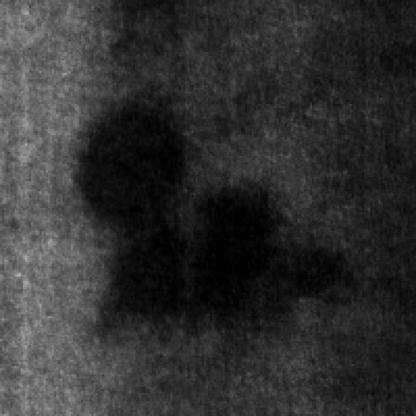patches: (200, 175, 354, 312), (77, 90, 193, 228), (106, 229, 198, 318)
